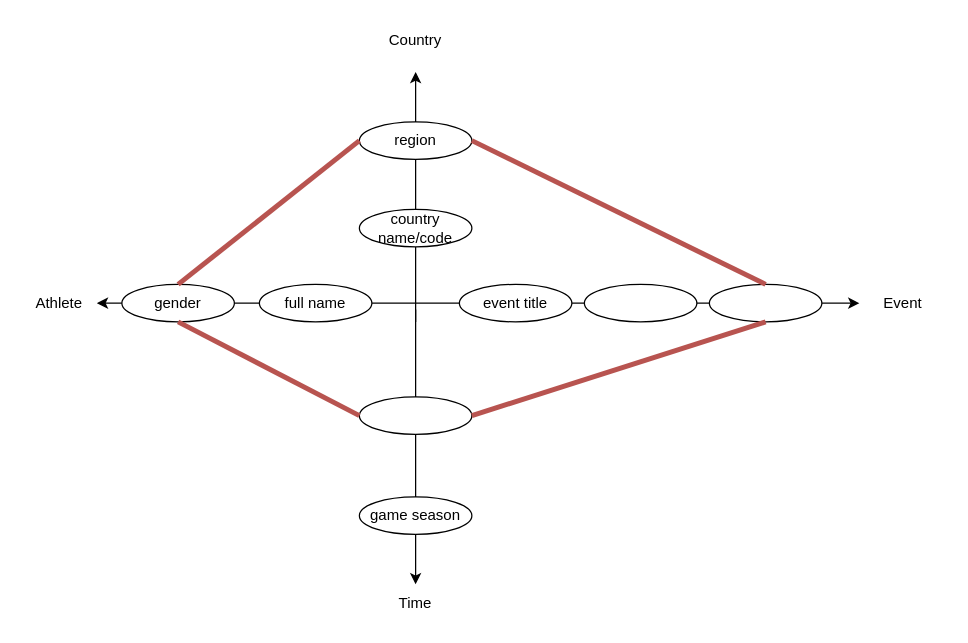
The diagram is 968 pixels wide and 643 high, and some of its shapes have lost their labels. Here are the shapes that lost their labels. From the top down, the box of each, then its label:
(583, 283, 697, 322): game slug
(708, 283, 822, 322): discipline
(358, 396, 472, 434): year
